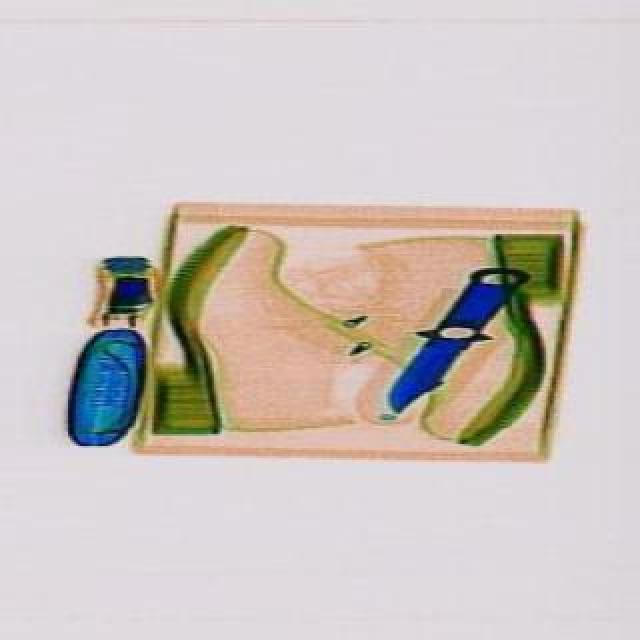knife: (372, 246, 540, 434)
